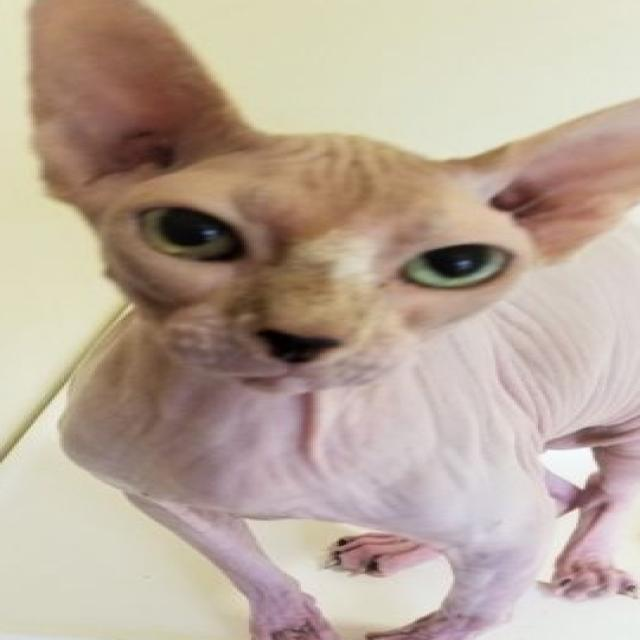Sphynx: (21, 0, 640, 640)
